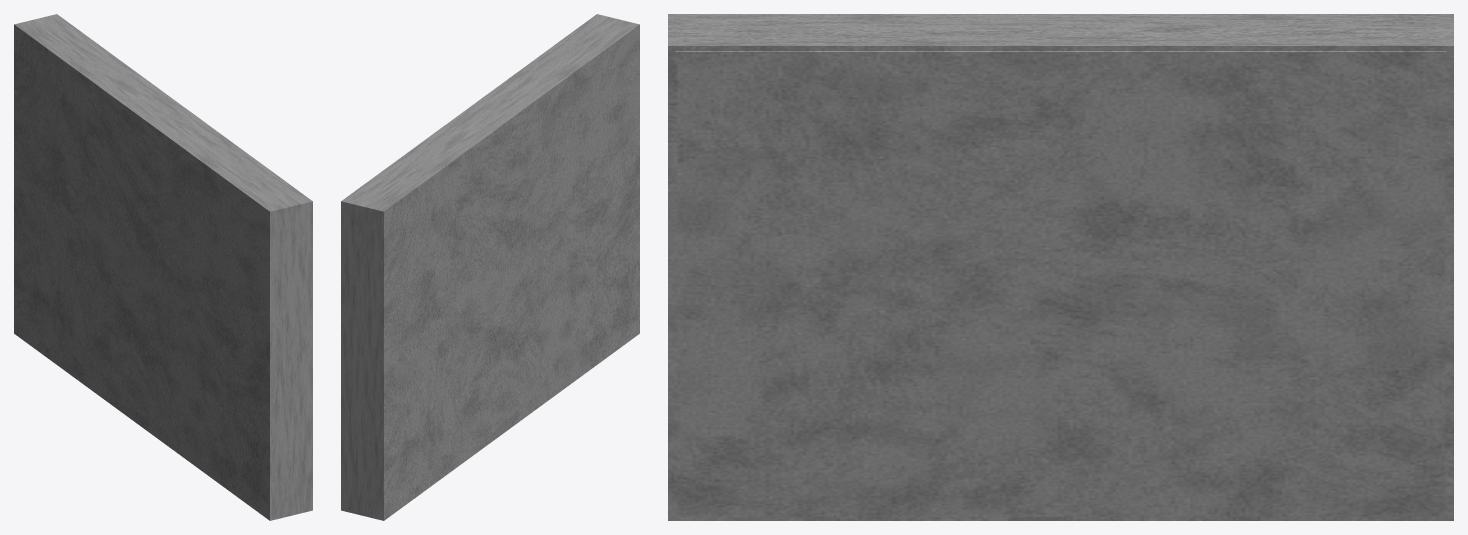
The model's file is siena_export.fbx.
The picture shows the model from 3 angles, left to right: view 1: azimuth 30°, elevation 25°; view 2: azimuth 150°, elevation 25°; view 3: azimuth 270°, elevation 25°; orthographic projection. The views are drawn at different scales.
Visible parts, largest first — view 1: Cube.001; view 2: Cube.001; view 3: Cube.001.
Part boxes in pixels (box(x1,y1,x2,y2)): Cube.001: box(14, 14, 312, 520); Cube.001: box(341, 14, 639, 520); Cube.001: box(668, 14, 1453, 520).
Bounding box in the file's own units: 60 × 400 × 600.
1 material, 1 textured.
